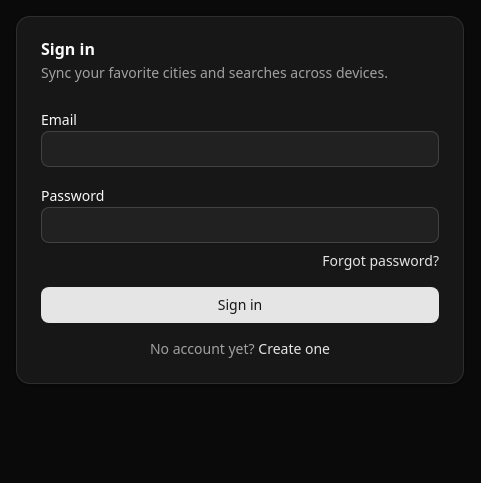
AuthPage › explains rate limiting in plain words
The width and height of the screenshot is (481, 483).
Step 1. Type "an@example.com" into the field labelled "Email" → point(240, 149), box x1=41 y1=131 x2=439 y2=167
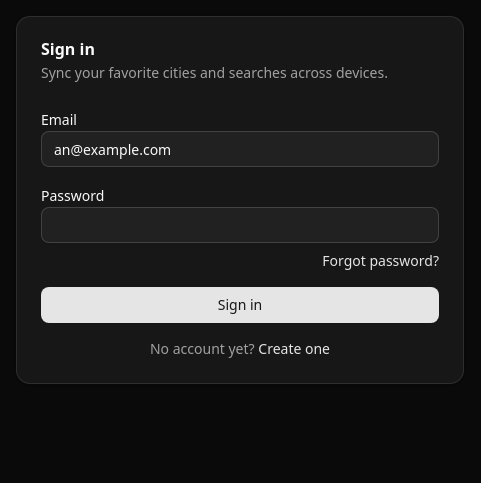
Step 2. Type "whatever-password" into the password field labelled "Password" → point(240, 225), box x1=41 y1=207 x2=439 y2=243
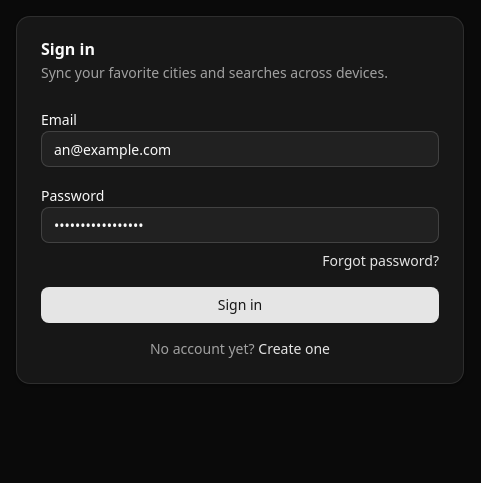
Step 3. Click the button "Sign in" → point(240, 305), box x1=41 y1=287 x2=439 y2=323
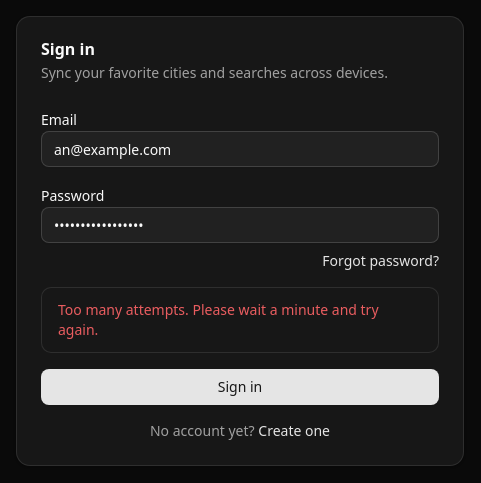
Now the text "Too many attempts. Please wait a minute and try again." is shown, box x1=58 y1=300 x2=422 y2=340
